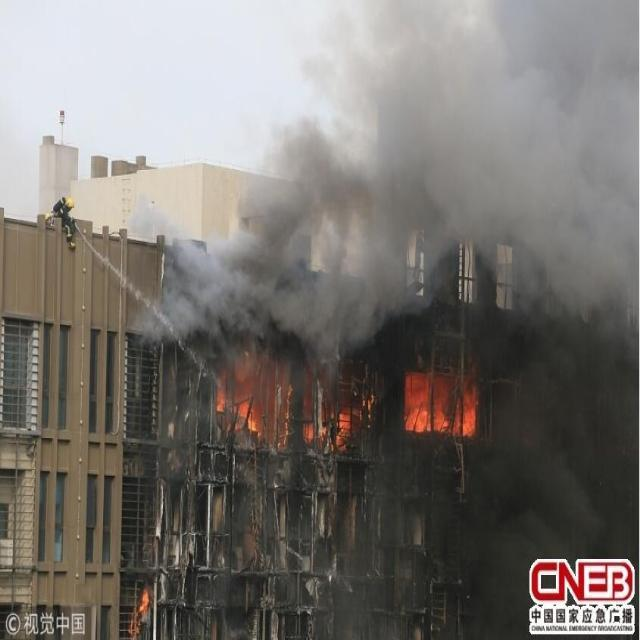Fire: (404, 374, 476, 434), (216, 392, 256, 433), (336, 412, 352, 444), (137, 588, 150, 612)
Smoke: (125, 1, 640, 346), (485, 353, 640, 557), (338, 459, 474, 636)
